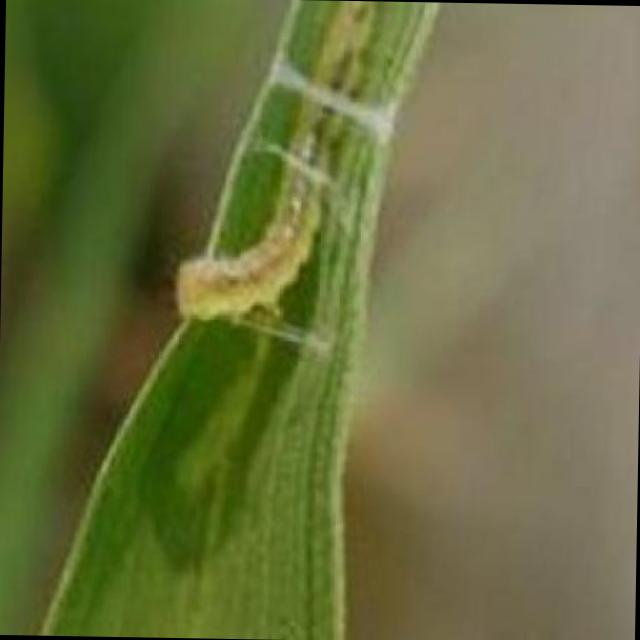leaf-folder: (151, 0, 405, 349)
